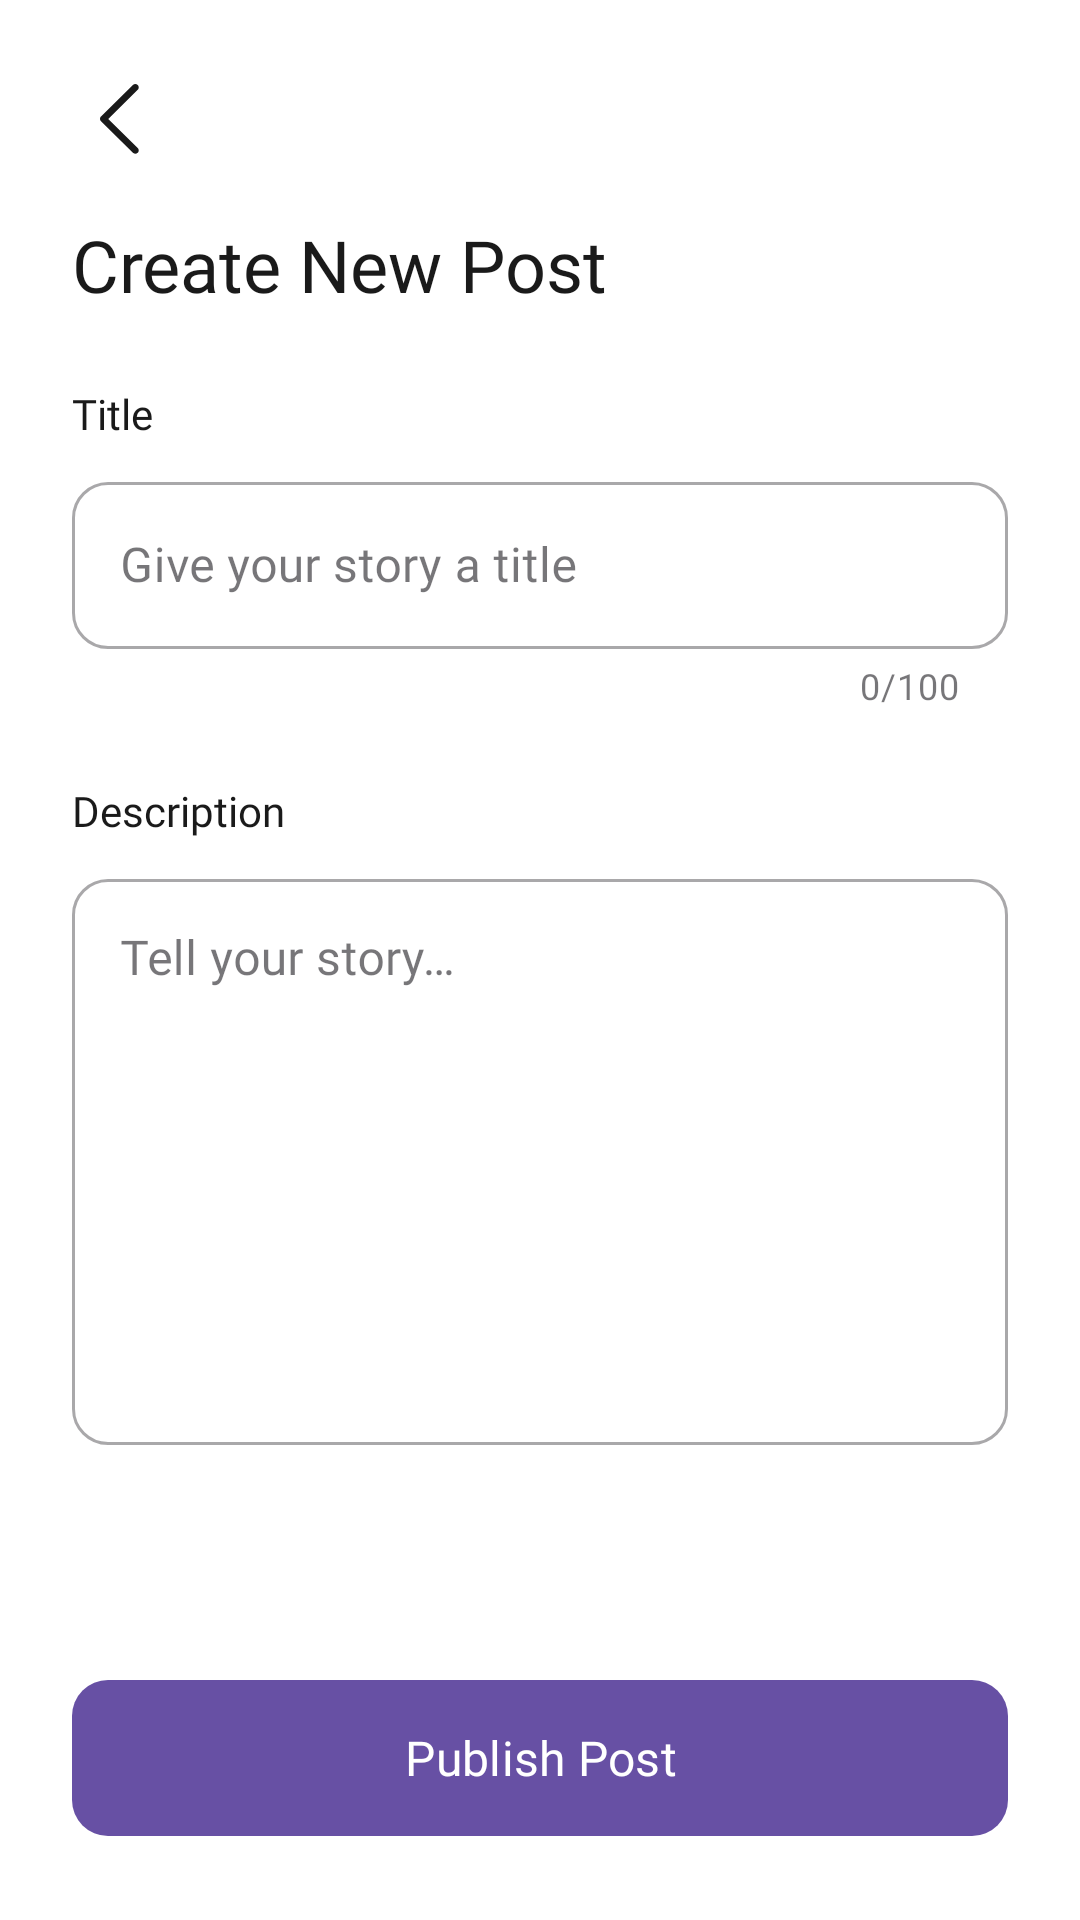

Icons on this 1080 × 1920 Android screen, each with its box as bbox=[x1, y1, x2, y2]:
back: bbox=[100, 84, 139, 154]
